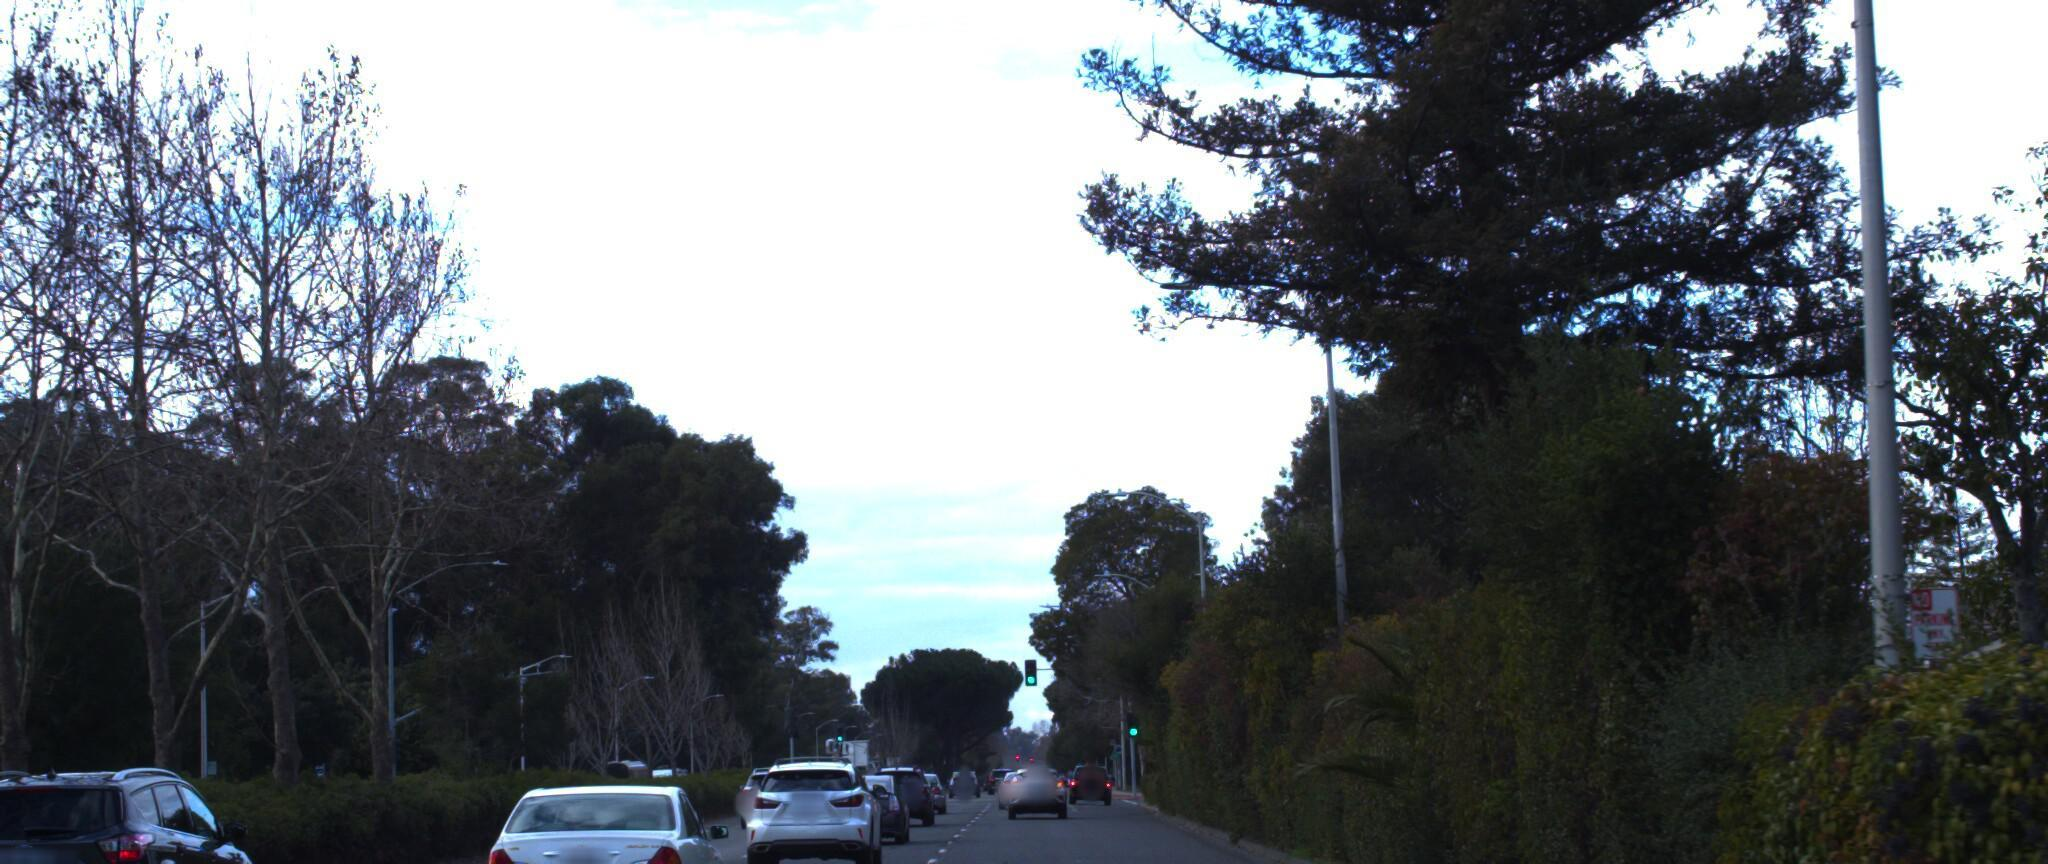car: (468, 731, 744, 864), (0, 744, 293, 864), (737, 747, 882, 864), (808, 765, 910, 843)
